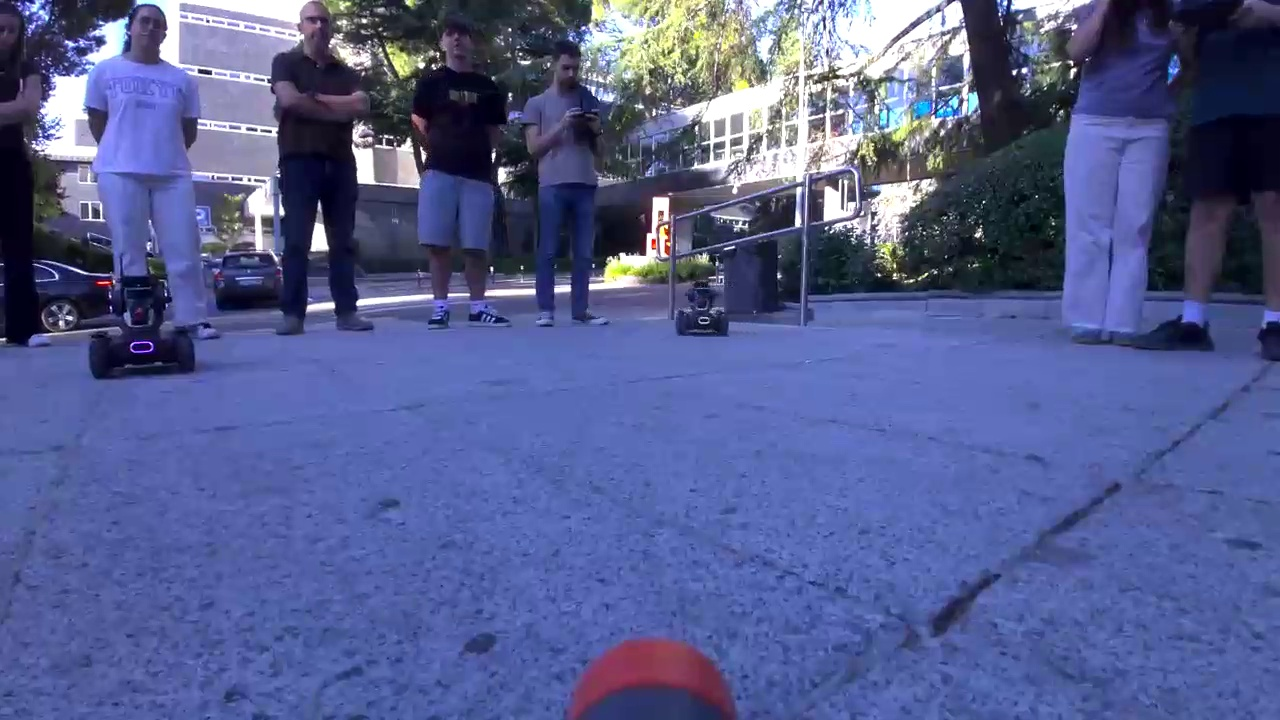robot: (88, 272, 197, 380), (675, 281, 729, 336)
